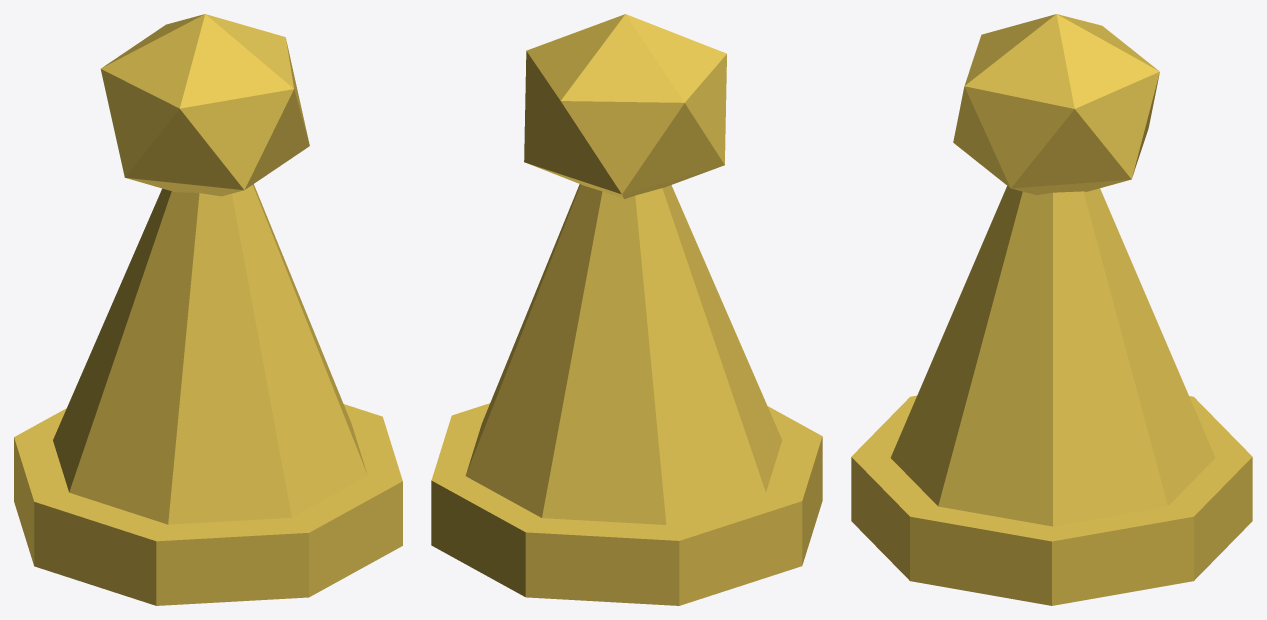
File: pawn-yellow.glb
3 renders of one model, left to right at view 1: azimuth 30°, elevation 25°; view 2: azimuth 150°, elevation 25°; view 3: azimuth 270°, elevation 25°, orthographic.
Parts seen in each view (by area): view 1: Cylinder.002; view 2: Cylinder.002; view 3: Cylinder.002.
Boxes of the visible parts, x1=… form: Cylinder.002: x1=14, y1=14, x2=402, y2=605; Cylinder.002: x1=431, y1=14, x2=822, y2=605; Cylinder.002: x1=851, y1=14, x2=1252, y2=605.
Size of the model in its own units: 10914 by 15210 by 10914.
